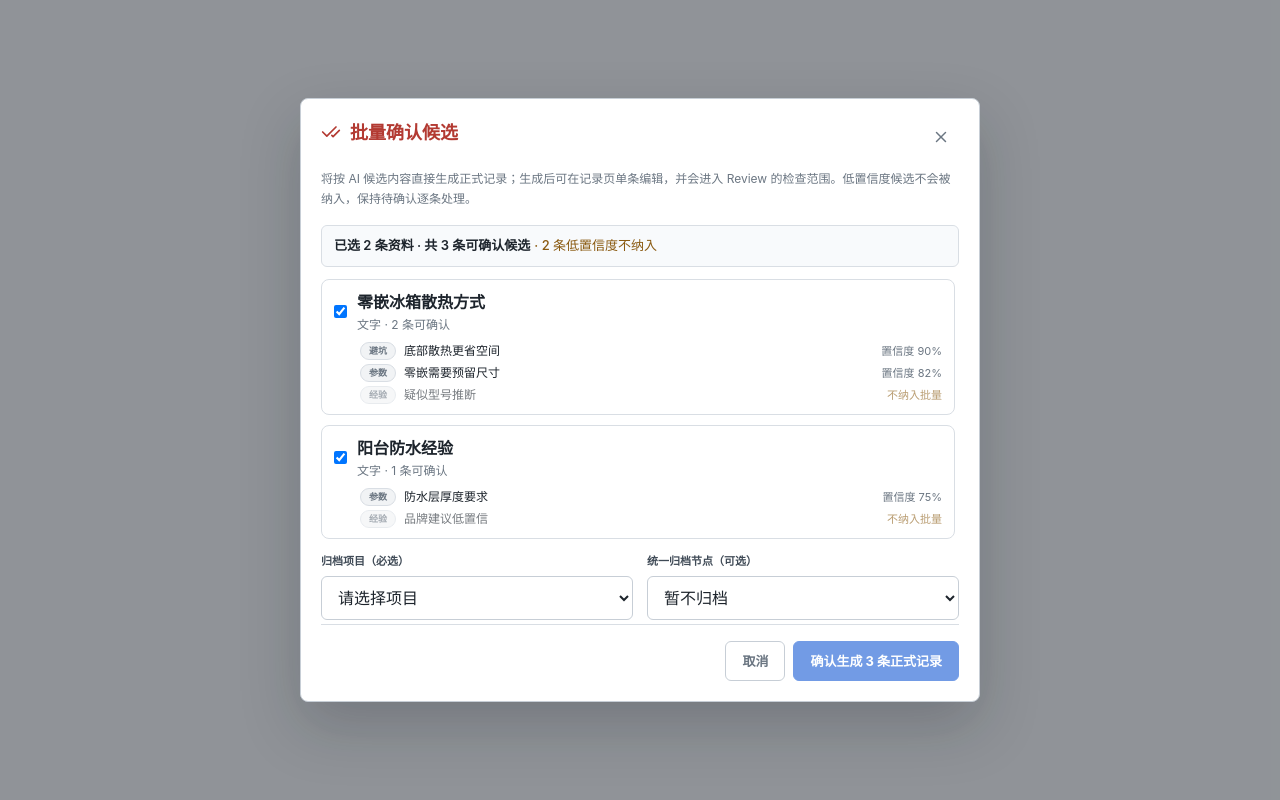
BatchConfirmDialog › keeps the dialog state and shows the error when submission fails
Expected: the text "底部散热更省空间" is shown, [404,342,500,360]
Select "新房装修" in the dropdown named "归档项目". click: [477, 598]
box: [321,576,633,620]
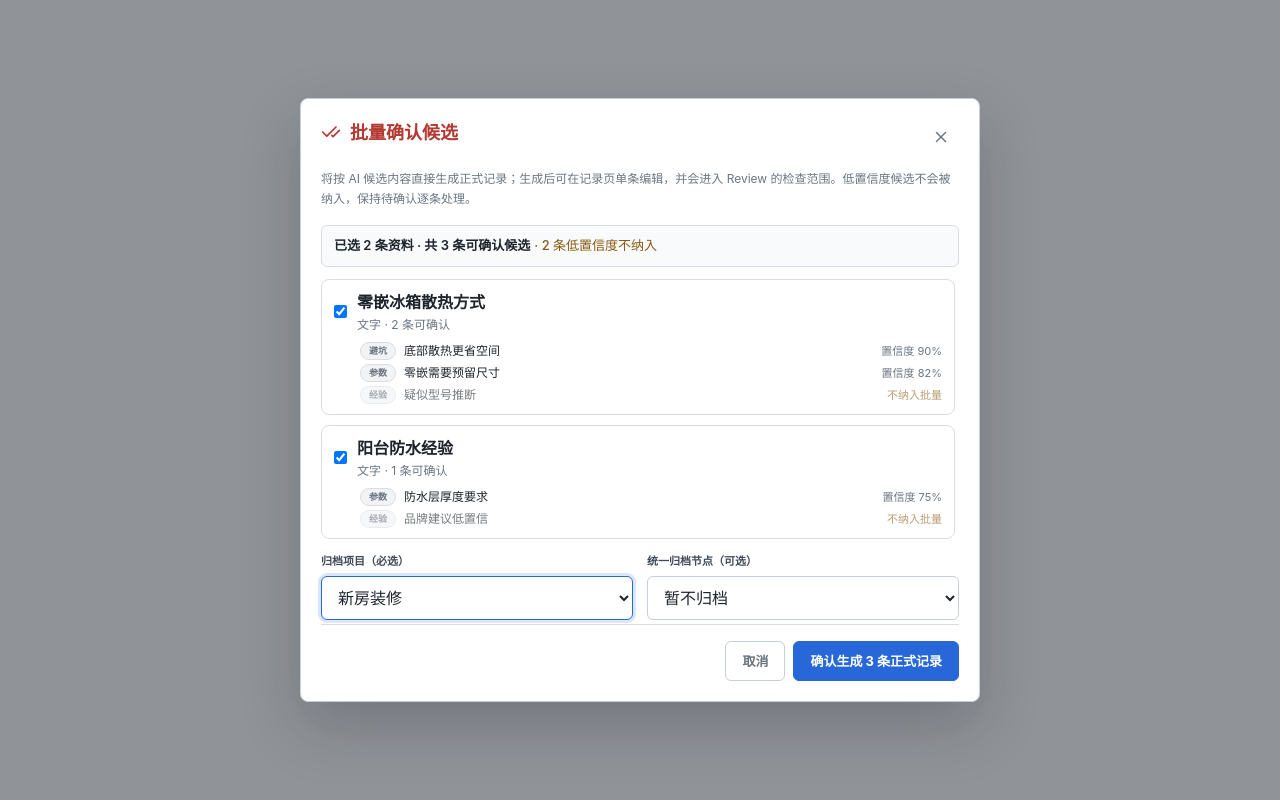
Click the button "确认生成 3 条正式记录". click: [876, 661]
box: [793,641,959,681]
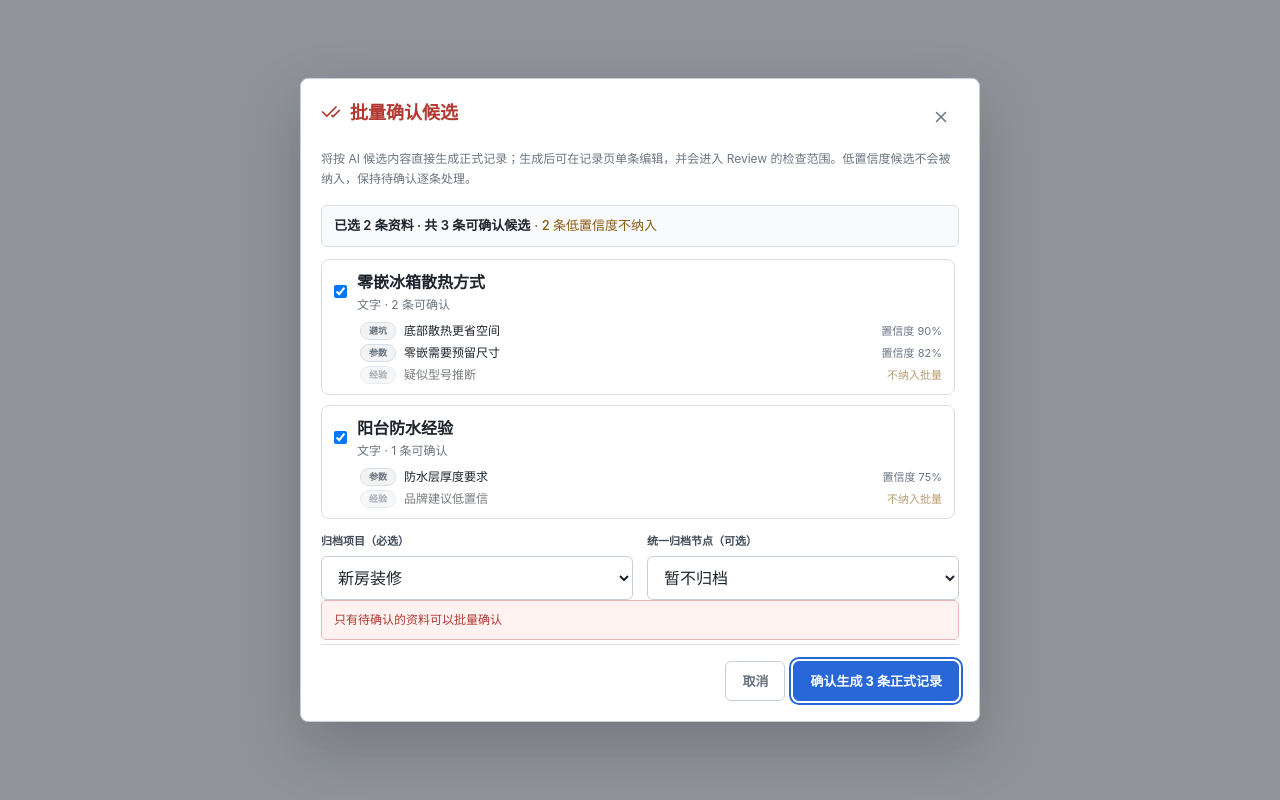
Expected: the checkbox labelled "确认 零嵌冰箱散热方式" is checked, [334,285,347,298]
Now the message "只有待确认的资料可以批量确认" is shown, box [321,600,959,640]
